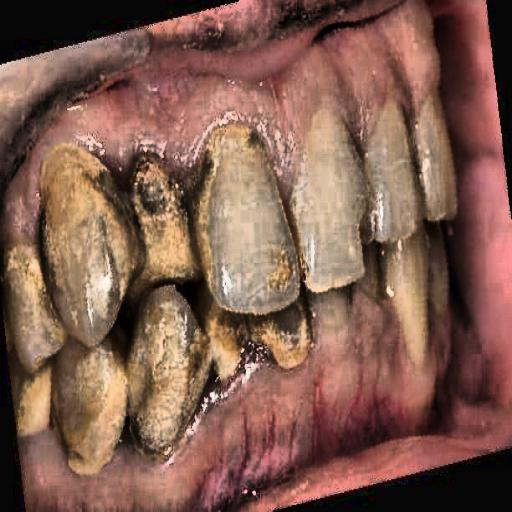Calculus: (8, 110, 318, 478)
